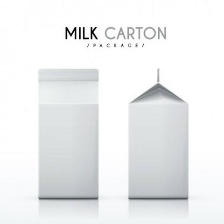carton: (123, 65, 193, 204), (34, 63, 103, 203)
